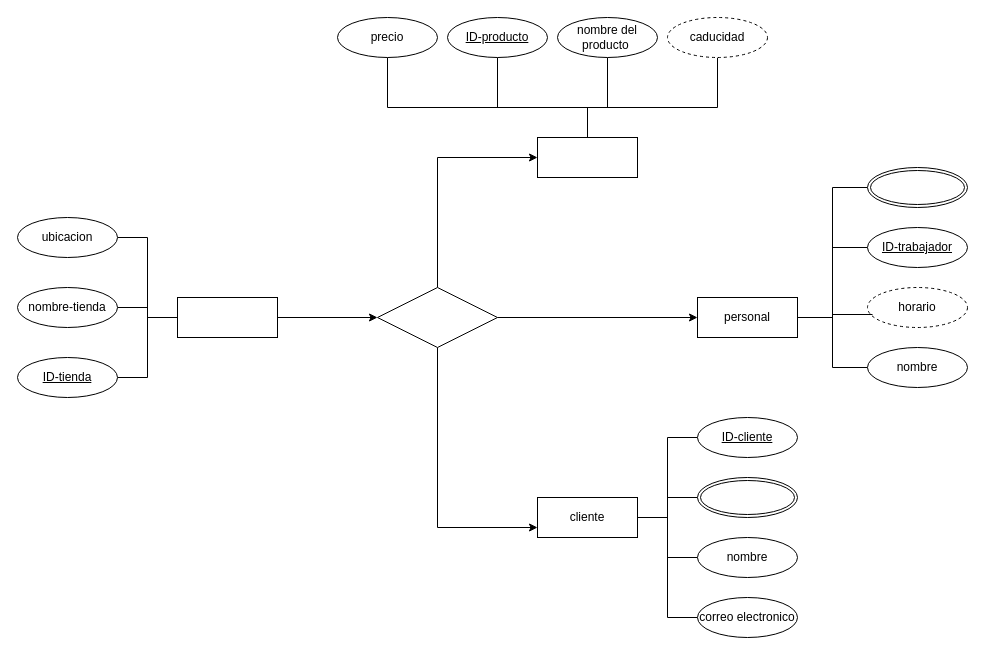
Image size: 985x655. Some labels were removed from this diagram. Here are the shapes that lost their labels. From the top down, the centre of each, then its label:
[587,157]: producto
[917,187]: num-telefonico
[227,317]: tienda
[437,317]: tiene
[747,497]: num.telefonico
